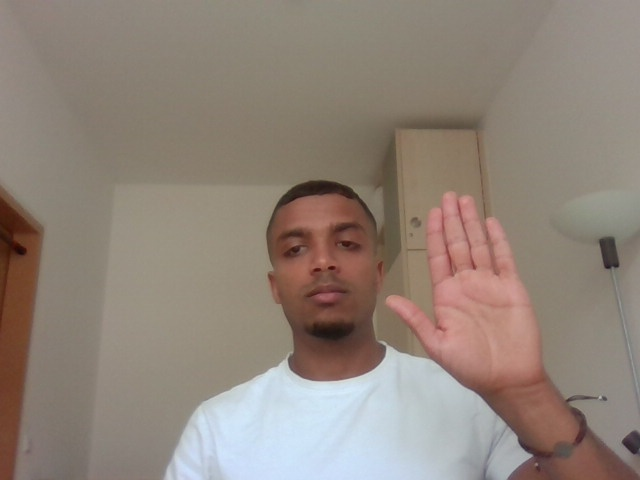never: (381, 179, 555, 400)
